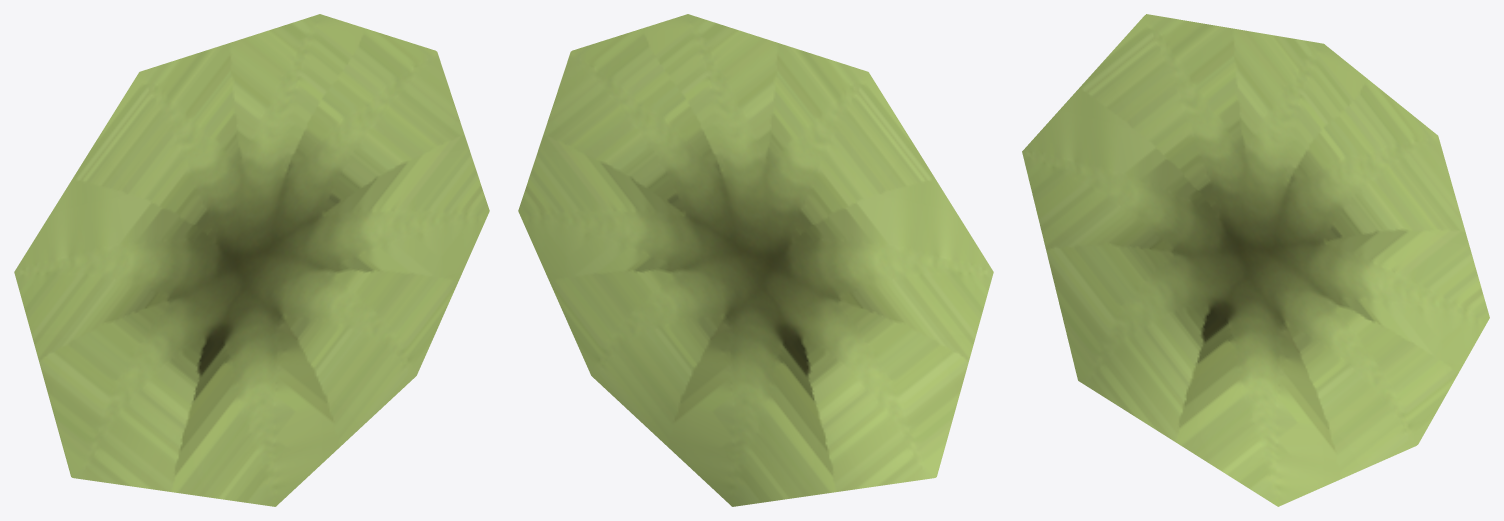
The model's file is HP3_weed021 1.fbx.
3 renders of one model, left to right at view 1: azimuth 30°, elevation 25°; view 2: azimuth 150°, elevation 25°; view 3: azimuth 330°, elevation 25°, orthographic.
Parts seen in each view (by area): view 1: HP3_weed021; view 2: HP3_weed021; view 3: HP3_weed021.
Part boxes in pixels (x1,y1,x2,y2): HP3_weed021: (14,14,489,506); HP3_weed021: (518,14,993,506); HP3_weed021: (1022,14,1489,506).
Size of the model in its own units: 9.95 by 9.64 by 0.04.
